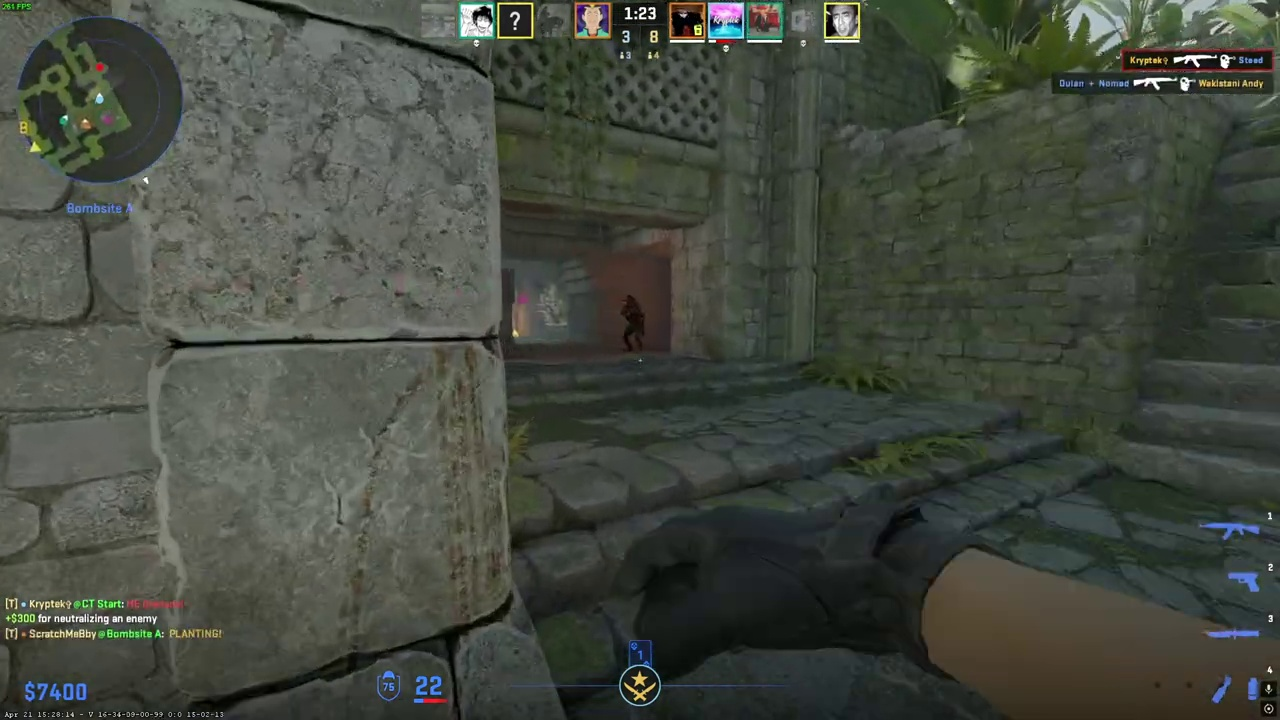CT: (620, 294, 645, 352)
